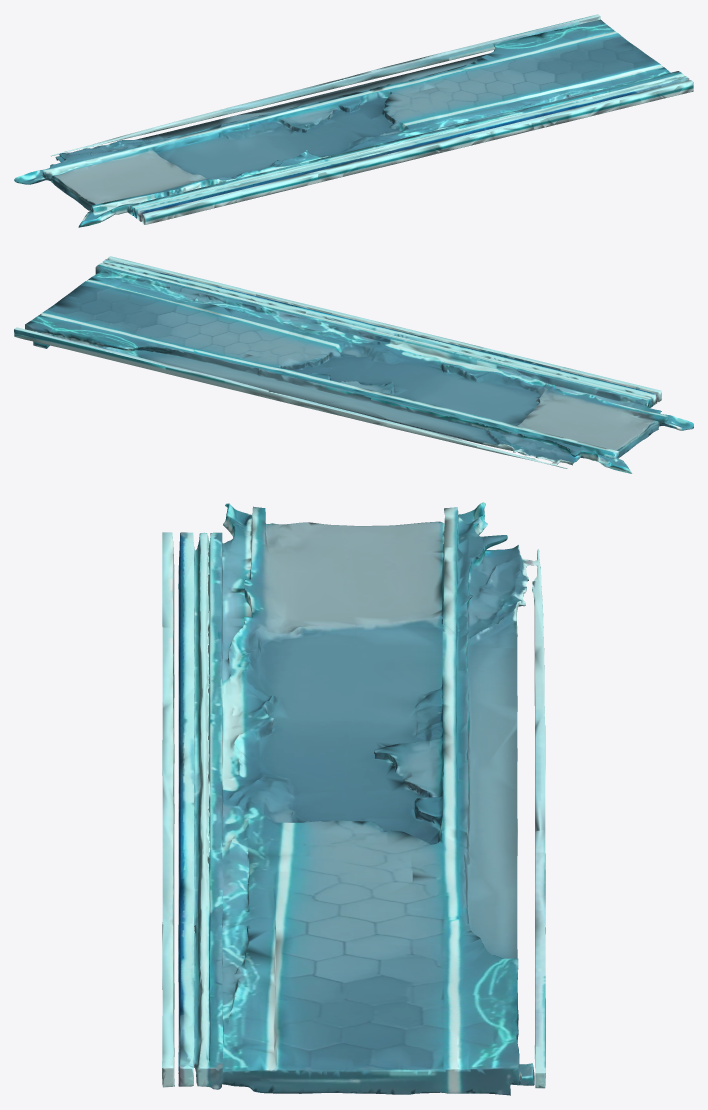
Rendered from icytile-optimized.glb.
3 renders of one model, top to bottom at view 1: azimuth 30°, elevation 25°; view 2: azimuth 150°, elevation 25°; view 3: azimuth 270°, elevation 25°, orthographic. The views are drawn at different scales.
Visible parts, largest first — view 1: tripo_node_2d01ee2c-c101-4d16-947e-805affbd1cfa; view 2: tripo_node_2d01ee2c-c101-4d16-947e-805affbd1cfa; view 3: tripo_node_2d01ee2c-c101-4d16-947e-805affbd1cfa.
Boxes of the visible parts, x1,y1,x2,y2 form: tripo_node_2d01ee2c-c101-4d16-947e-805affbd1cfa: [14, 14, 693, 227]; tripo_node_2d01ee2c-c101-4d16-947e-805affbd1cfa: [14, 256, 693, 473]; tripo_node_2d01ee2c-c101-4d16-947e-805affbd1cfa: [162, 502, 545, 1095].
Size of the model in its own units: 1 by 0.0276 by 0.2773.
Materials: 1 (1 with a texture image).
